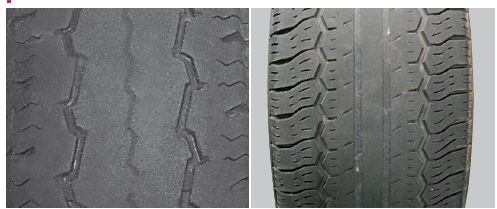bad_condition: (6, 7, 250, 209), (273, 9, 467, 209)
